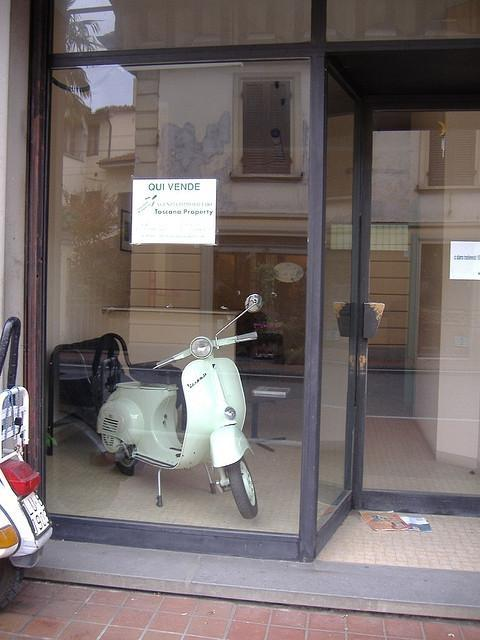motorcycle: (96, 294, 264, 520), (3, 320, 55, 586)
